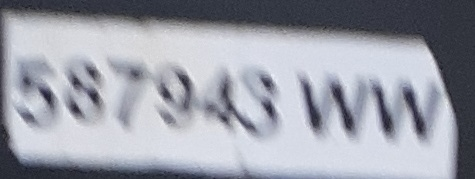3: (235, 68, 282, 140)
4: (198, 67, 235, 135)
5: (13, 57, 60, 128)
7: (107, 60, 152, 131)
8: (63, 58, 107, 125)
9: (153, 64, 197, 132)
w: (370, 76, 444, 147), (296, 74, 370, 142)
